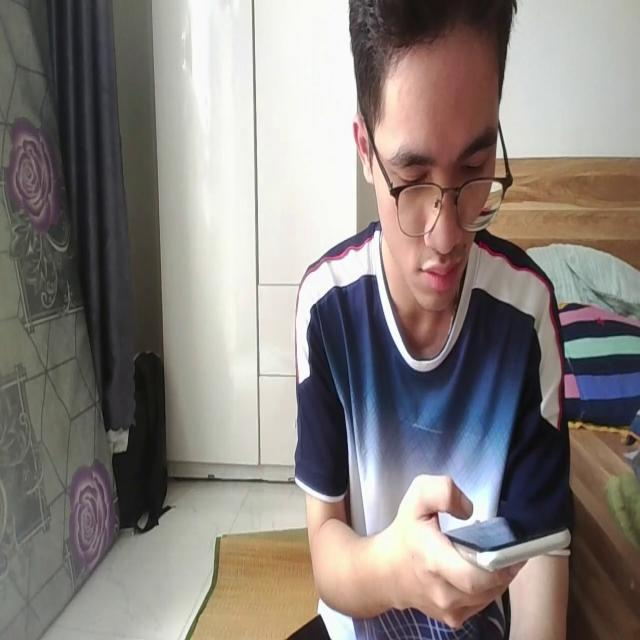phone: (438, 501, 573, 579)
student: (294, 0, 572, 640)
